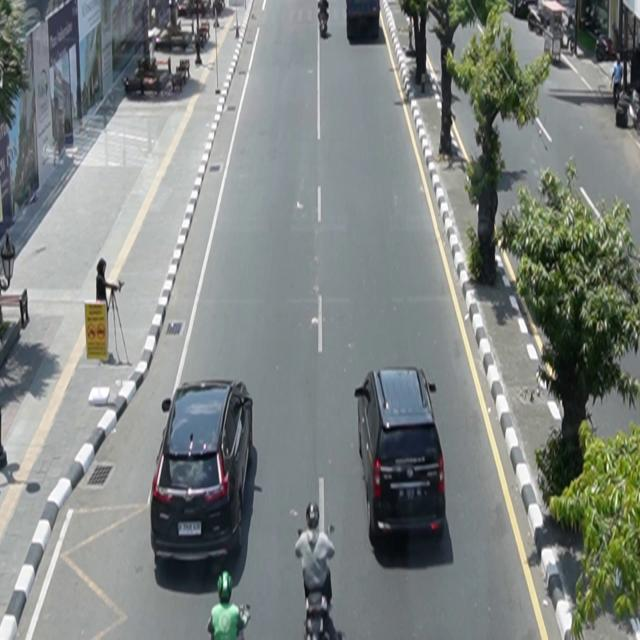car: (150, 378, 254, 567), (355, 366, 447, 550)
